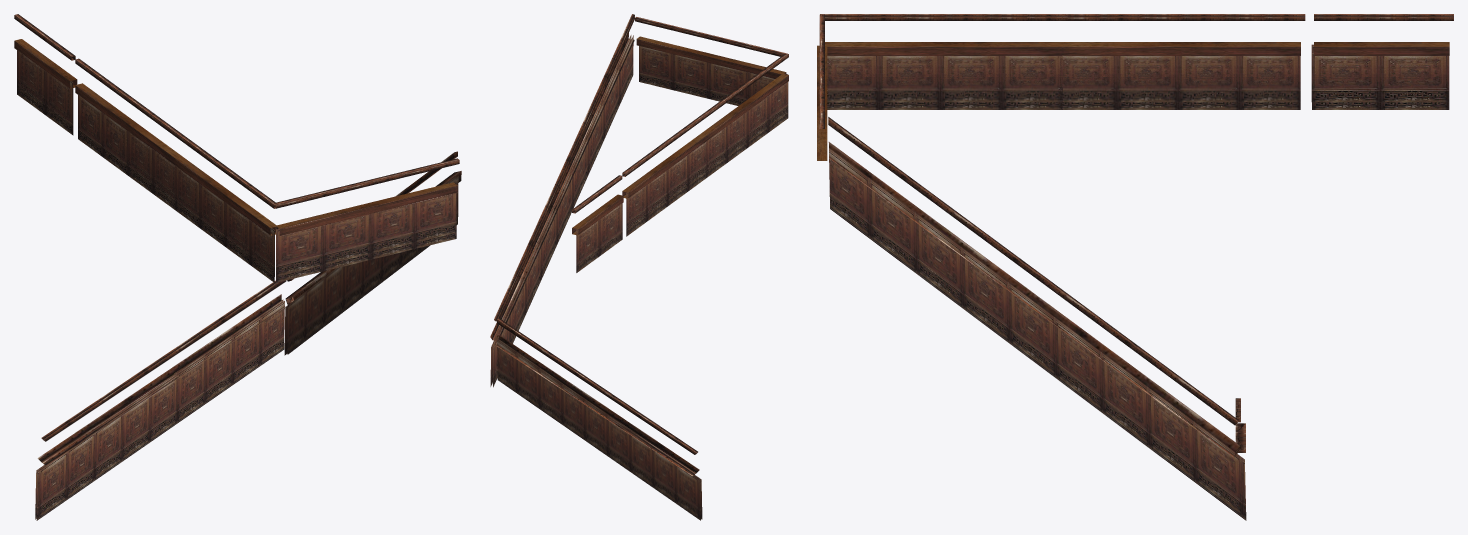
3 views of the same model, side by side, from view 1: azimuth 30°, elevation 25°; view 2: azimuth 150°, elevation 25°; view 3: azimuth 270°, elevation 25° (orthographic). The views are drawn at different scales.
Parts seen in each view (by area): view 1: Box281; view 2: Box281; view 3: Box281.
Part boxes in pixels (<box>): Box281: <box>14,14,461,520</box>; Box281: <box>490,14,788,520</box>; Box281: <box>817,14,1453,520</box>.
Bounding box in the file's own units: 70.1 × 112 × 123.
